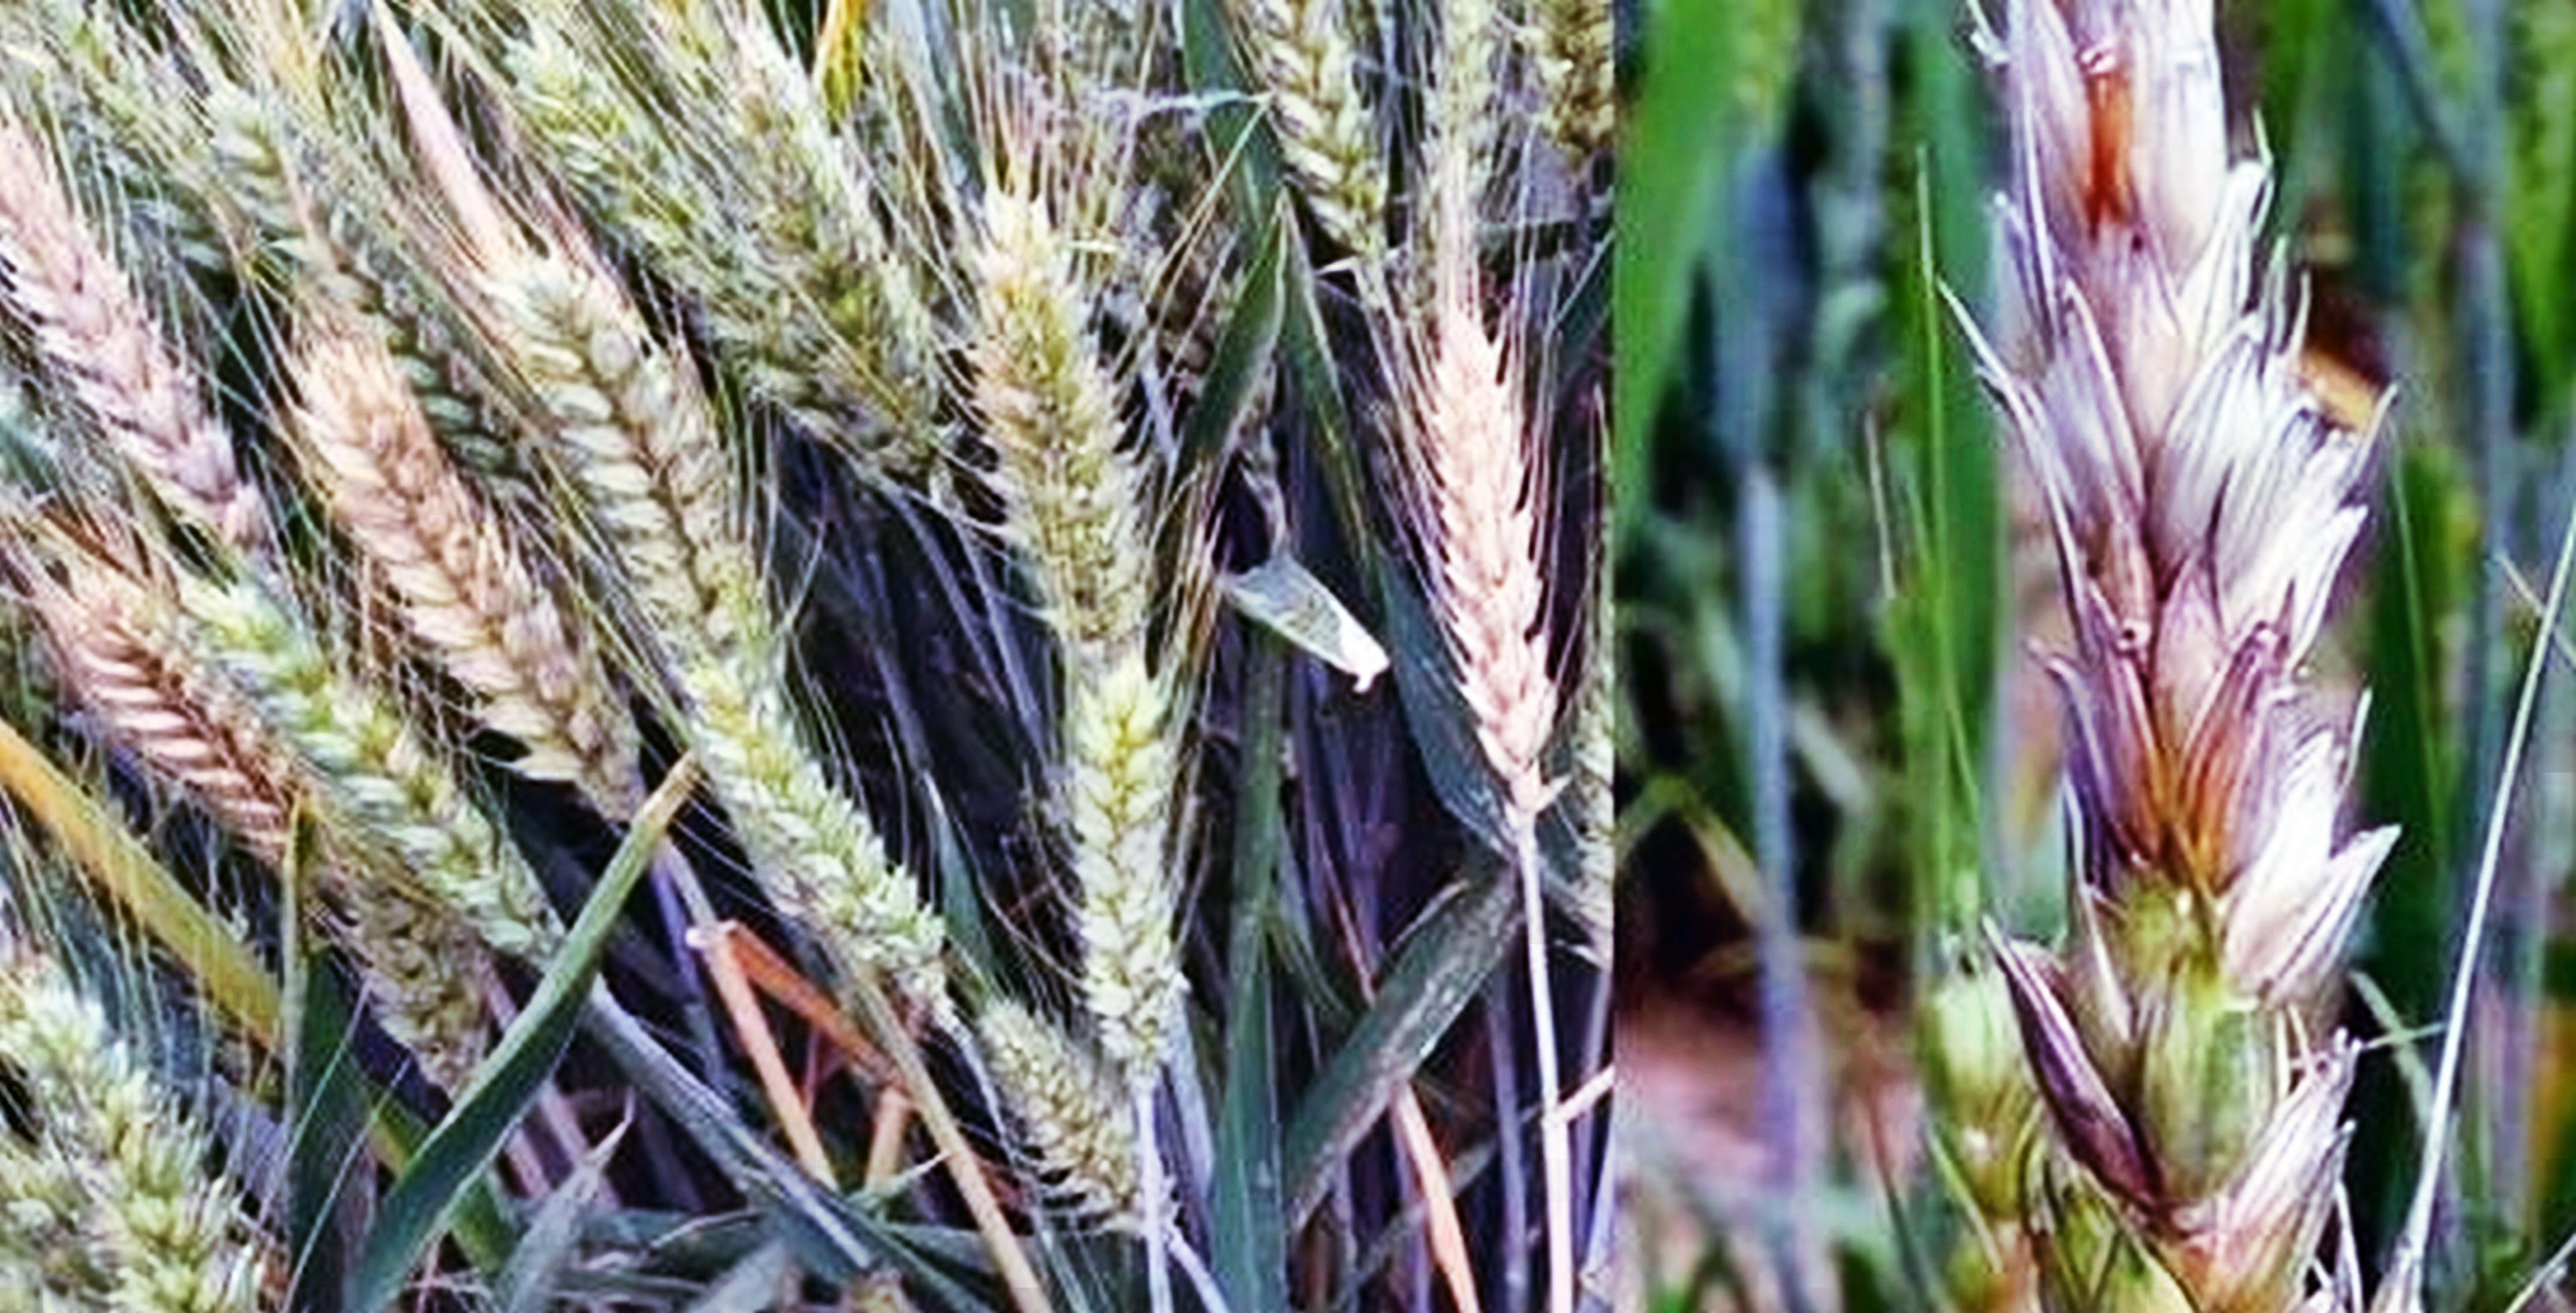Wheat scab: (1966, 65, 2393, 1303), (283, 327, 631, 806), (1392, 310, 1591, 797)
